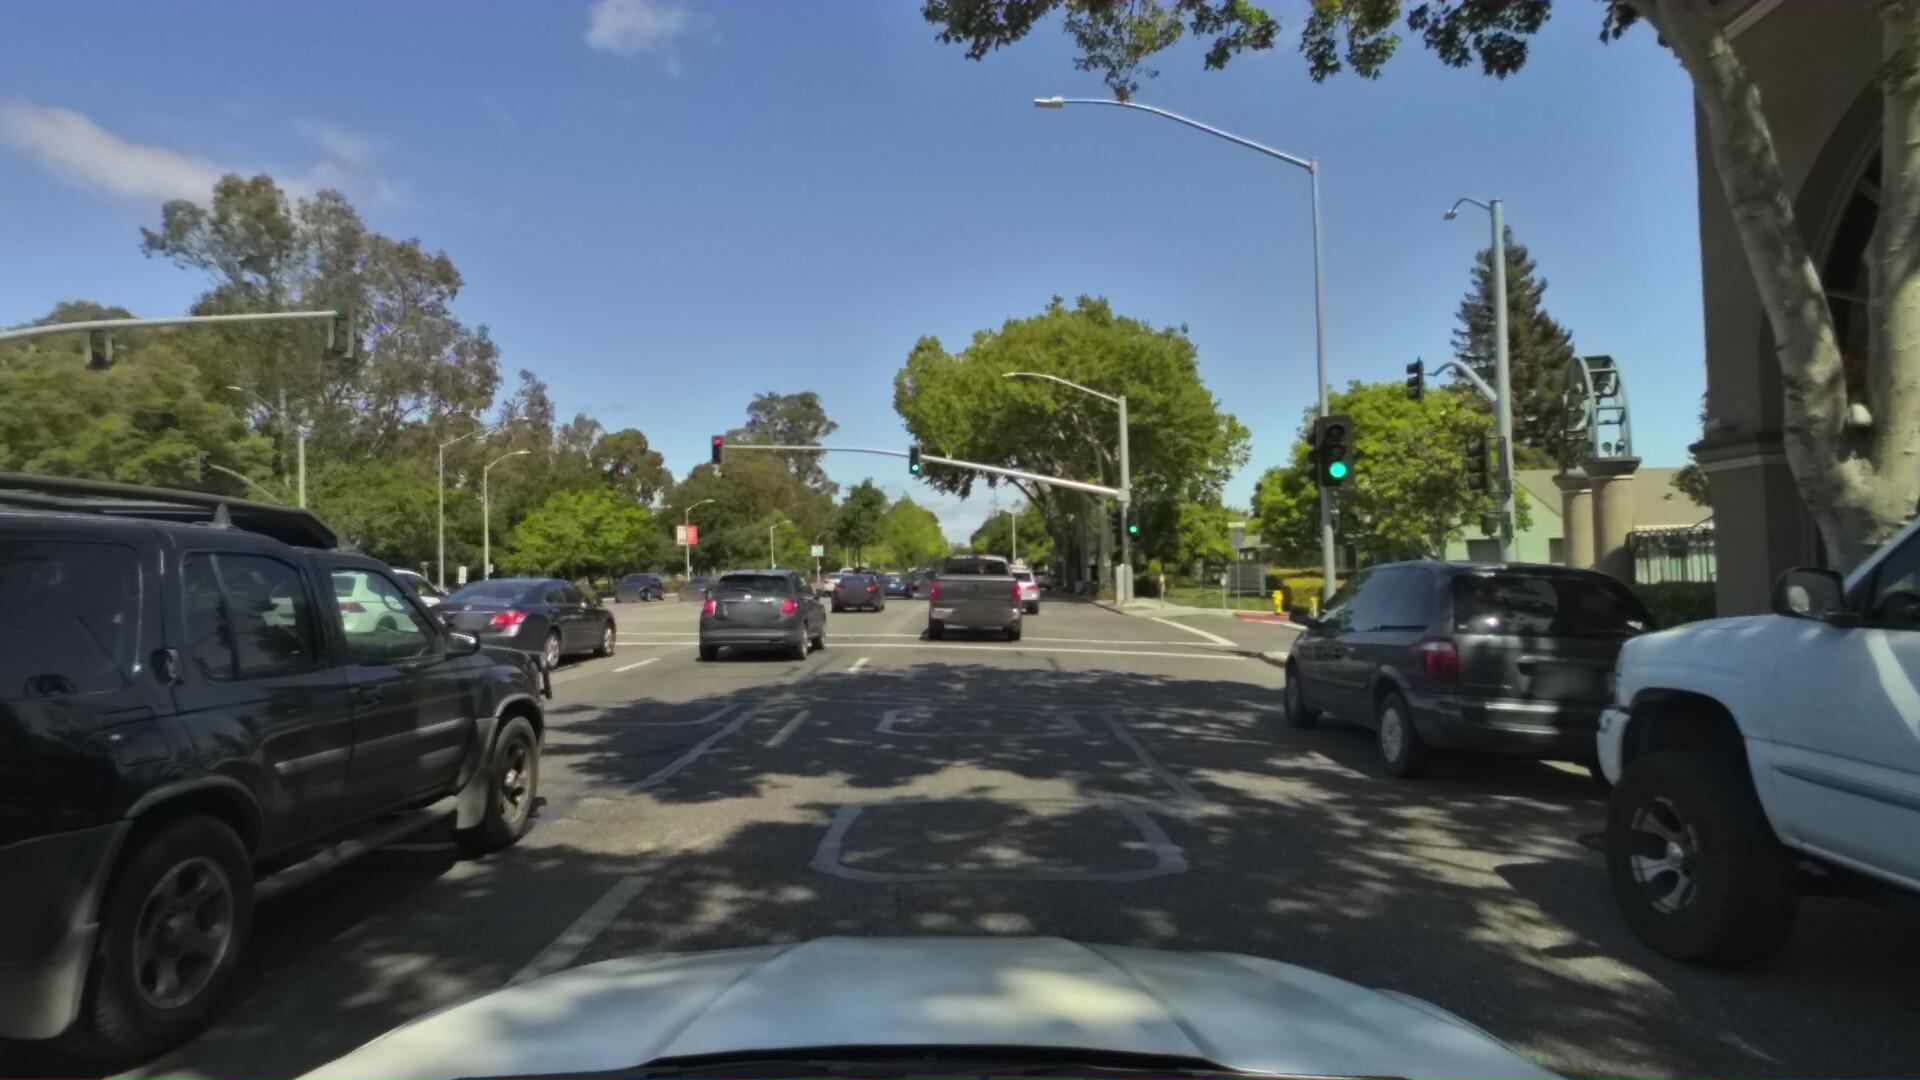car: (0, 363, 599, 1080), (1242, 546, 1764, 840), (0, 549, 204, 779), (235, 549, 491, 665), (415, 564, 633, 690), (698, 558, 840, 670), (920, 541, 1027, 657), (982, 562, 1039, 617), (832, 571, 891, 618), (0, 481, 4, 1080), (612, 574, 665, 607), (878, 570, 916, 603), (671, 574, 719, 600), (818, 564, 855, 592), (856, 556, 884, 582), (911, 564, 938, 588), (1027, 556, 1052, 580)
